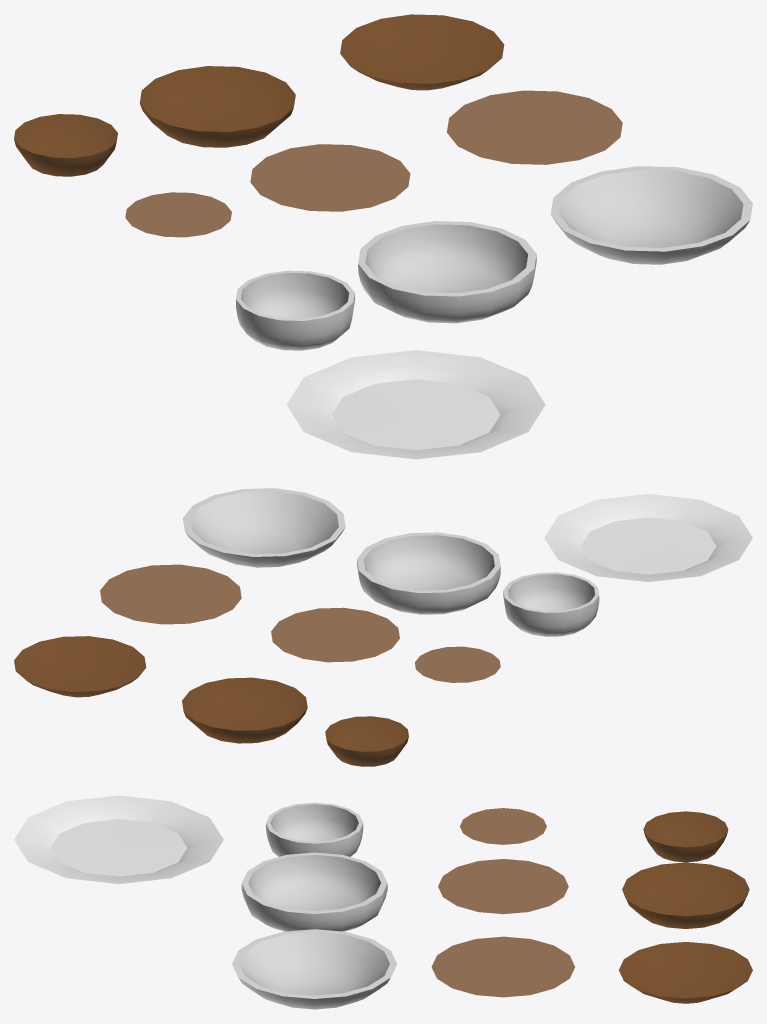
File: plates.fbx
The picture shows the model from 3 angles, top to bottom: view 1: azimuth 30°, elevation 25°; view 2: azimuth 150°, elevation 25°; view 3: azimuth 270°, elevation 25°; orthographic projection. The views are drawn at different scales.
Parts seen in each view (by area): view 1: plate, bowl_3, bowl_2, bowl_3_Liquid_Top, bowl_2_Liquid, bowl_3_Liquid, bowl_2_Liquid_Top, bowl_1, bowl_1_Liquid, bowl_1_Liquid_Top; view 2: plate, bowl_3, bowl_2, bowl_3_Liquid_Top, bowl_2_Liquid, bowl_3_Liquid, bowl_2_Liquid_Top, bowl_1, bowl_1_Liquid, bowl_1_Liquid_Top; view 3: plate, bowl_3, bowl_2, bowl_3_Liquid_Top, bowl_2_Liquid, bowl_3_Liquid, bowl_2_Liquid_Top, bowl_1, bowl_1_Liquid, bowl_1_Liquid_Top.
Boxes of the visible parts, bbox=[...] form: plate: bbox=[286, 350, 545, 459]; bowl_3: bbox=[550, 166, 752, 264]; bowl_2: bbox=[358, 221, 536, 323]; bowl_3_Liquid_Top: bbox=[447, 90, 622, 164]; bowl_2_Liquid: bbox=[139, 66, 295, 147]; bowl_3_Liquid: bbox=[340, 14, 504, 90]; bowl_2_Liquid_Top: bbox=[250, 144, 410, 211]; bowl_1: bbox=[236, 270, 354, 350]; bowl_1_Liquid: bbox=[14, 114, 117, 176]; bowl_1_Liquid_Top: bbox=[125, 192, 231, 237]; plate: bbox=[544, 494, 752, 581]; bowl_3: bbox=[182, 488, 345, 567]; bowl_2: bbox=[357, 532, 500, 614]; bowl_3_Liquid_Top: bbox=[100, 564, 241, 624]; bowl_2_Liquid: bbox=[182, 677, 307, 743]; bowl_3_Liquid: bbox=[14, 636, 146, 697]; bowl_2_Liquid_Top: bbox=[271, 607, 399, 662]; bowl_1: bbox=[503, 572, 599, 636]; bowl_1_Liquid: bbox=[325, 716, 408, 766]; bowl_1_Liquid_Top: bbox=[415, 646, 500, 682]; plate: bbox=[14, 795, 223, 883]; bowl_3: bbox=[232, 929, 396, 1009]; bowl_2: bbox=[241, 852, 387, 931]; bowl_3_Liquid_Top: bbox=[431, 936, 574, 997]; bowl_2_Liquid: bbox=[622, 862, 749, 928]; bowl_3_Liquid: bbox=[619, 942, 752, 1003]; bowl_2_Liquid_Top: bbox=[438, 859, 568, 914]; bowl_1: bbox=[266, 802, 363, 856]; bowl_1_Liquid: bbox=[643, 811, 728, 862]; bowl_1_Liquid_Top: bbox=[460, 808, 546, 844].
Bounding box in the file's own units: 4.07 × 5.76 × 0.247.
2 materials, 1 textured.
